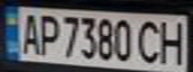0: (112, 16, 136, 63)
3: (78, 13, 96, 60)
7: (60, 12, 81, 57)
8: (93, 15, 115, 62)
A: (15, 10, 42, 56)
C: (136, 17, 163, 64)
H: (157, 17, 190, 65)
P: (36, 10, 60, 56)
